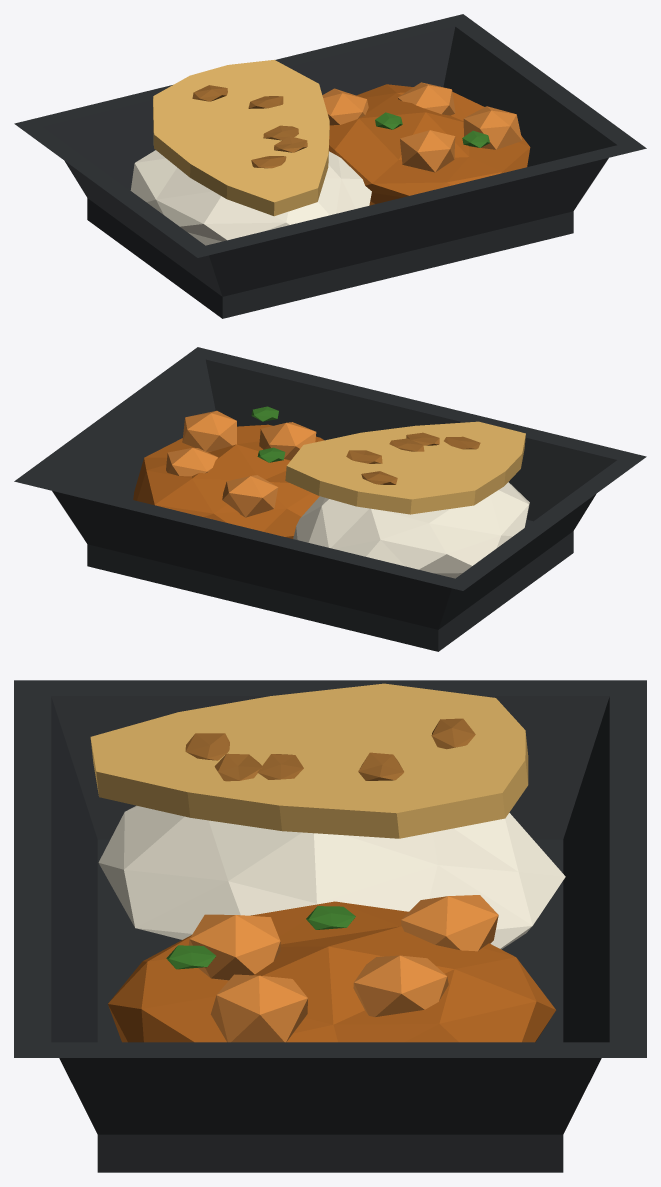
File: lwf_curry_tray_v1.glb
3 renders of one model, top to bottom at view 1: azimuth 30°, elevation 25°; view 2: azimuth 150°, elevation 25°; view 3: azimuth 270°, elevation 25°, orthographic. The views are drawn at different scales.
Parts seen in each view (by area): view 1: LWF_CurryTrayV1; view 2: LWF_CurryTrayV1; view 3: LWF_CurryTrayV1.
Boxes of the visible parts, bbox=[...] form: LWF_CurryTrayV1: bbox=[14, 14, 646, 318]; LWF_CurryTrayV1: bbox=[14, 347, 646, 651]; LWF_CurryTrayV1: bbox=[14, 680, 646, 1172].
Size of the model in its own units: 0.192 by 0.0538 by 0.136.
